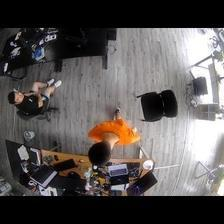normal: (84, 105, 143, 162), (6, 77, 62, 123)
